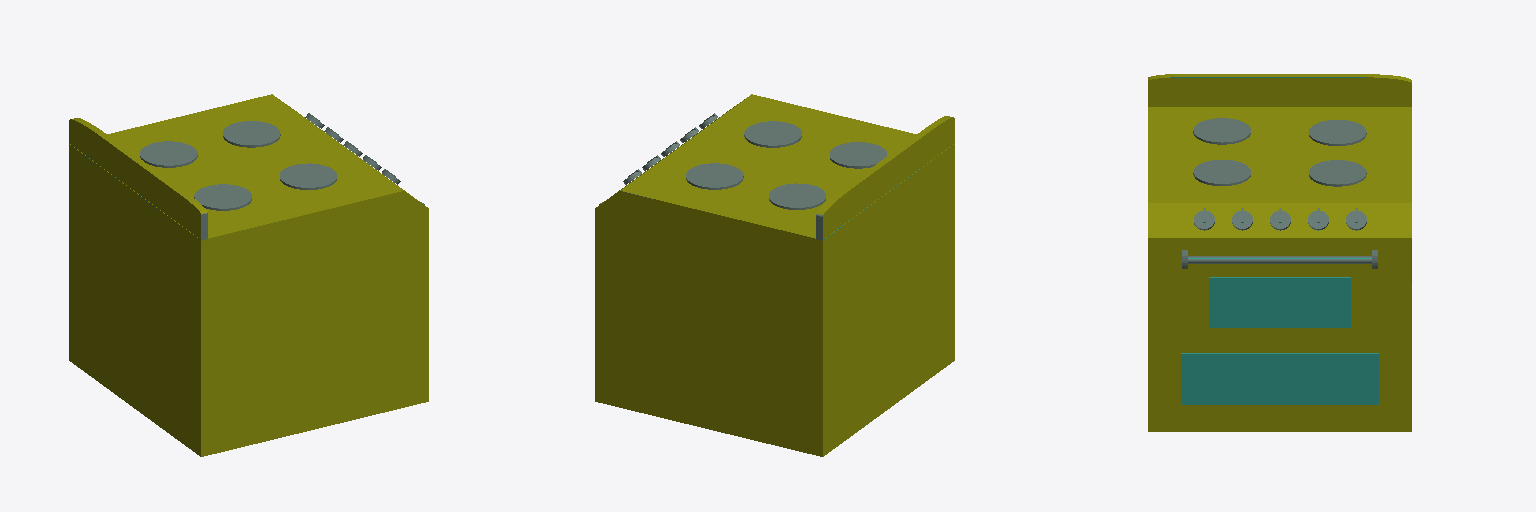
The picture shows the model from 3 angles: view 1: azimuth 30°, elevation 25°; view 2: azimuth 150°, elevation 25°; view 3: azimuth 270°, elevation 25°; orthographic projection.
Visible parts, largest first — view 1: Cube.054_Cube.105; view 2: Cube.054_Cube.105; view 3: Cube.054_Cube.105.
Part boxes in pixels (x1,y1,x2,y2): Cube.054_Cube.105: (69, 94, 428, 456); Cube.054_Cube.105: (595, 94, 954, 456); Cube.054_Cube.105: (1148, 74, 1411, 431).
Size of the model in its own units: 10.22 by 9.97 by 9.66.
Materials: 1 (1 with a texture image).